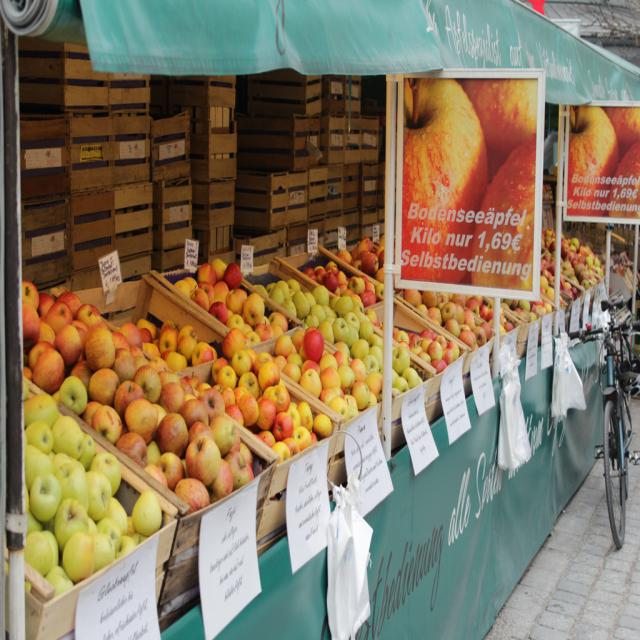Healty Apple: (3, 232, 605, 600), (404, 78, 490, 283), (473, 128, 532, 290), (460, 79, 537, 173), (569, 103, 620, 216), (607, 142, 640, 221), (185, 432, 220, 487), (606, 104, 638, 153)
